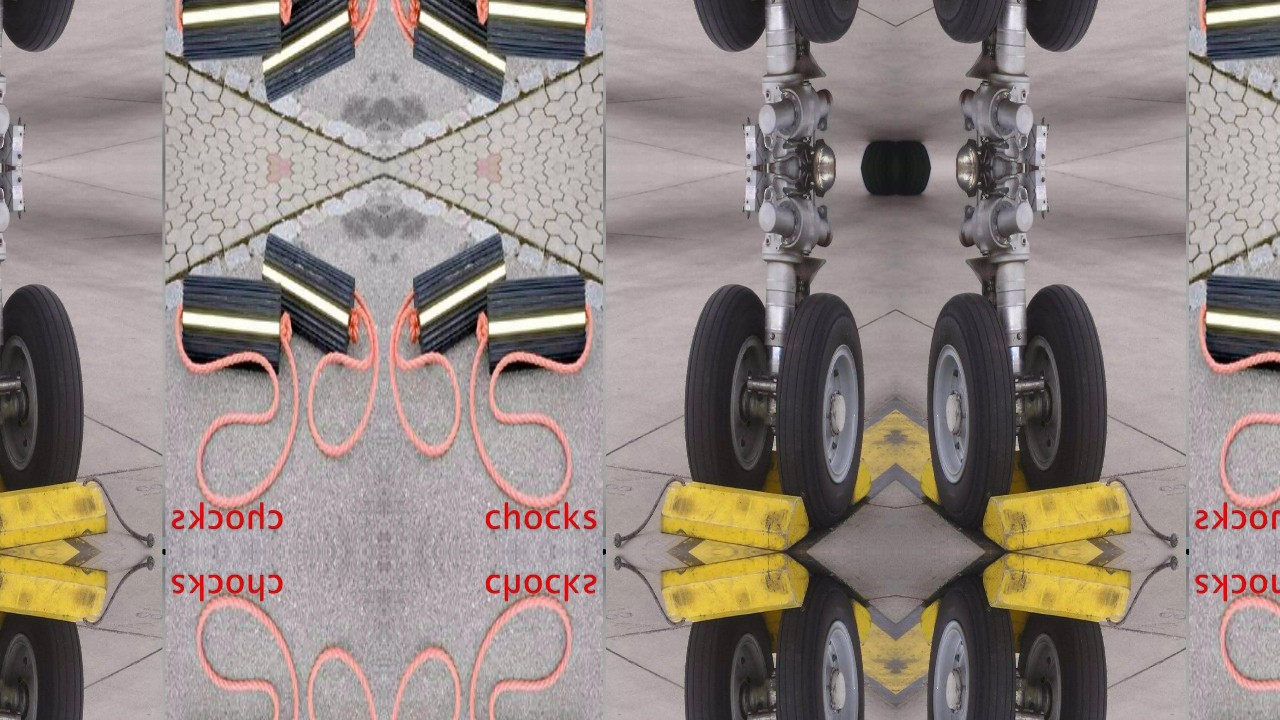chock: (260, 232, 356, 354), (412, 232, 508, 354), (659, 475, 812, 547), (980, 475, 1133, 547), (659, 557, 812, 629), (980, 557, 1133, 629), (175, 275, 282, 374), (486, 275, 593, 374), (260, 0, 356, 104), (412, 0, 508, 104), (1199, 275, 1280, 374), (0, 475, 109, 547), (0, 557, 109, 629), (175, 0, 282, 61), (486, 0, 593, 61), (1199, 0, 1280, 61)
wheel: (776, 294, 865, 529), (927, 294, 1016, 529), (684, 284, 773, 493), (1019, 284, 1108, 493), (0, 284, 85, 493), (776, 576, 865, 720), (927, 576, 1016, 720), (684, 611, 773, 720), (1019, 611, 1108, 720), (0, 611, 85, 720), (684, 0, 773, 52), (1019, 0, 1108, 52), (0, 0, 85, 52), (776, 0, 865, 42), (927, 0, 1016, 42), (860, 142, 894, 168), (898, 142, 932, 168), (860, 168, 894, 194), (898, 168, 932, 194)
